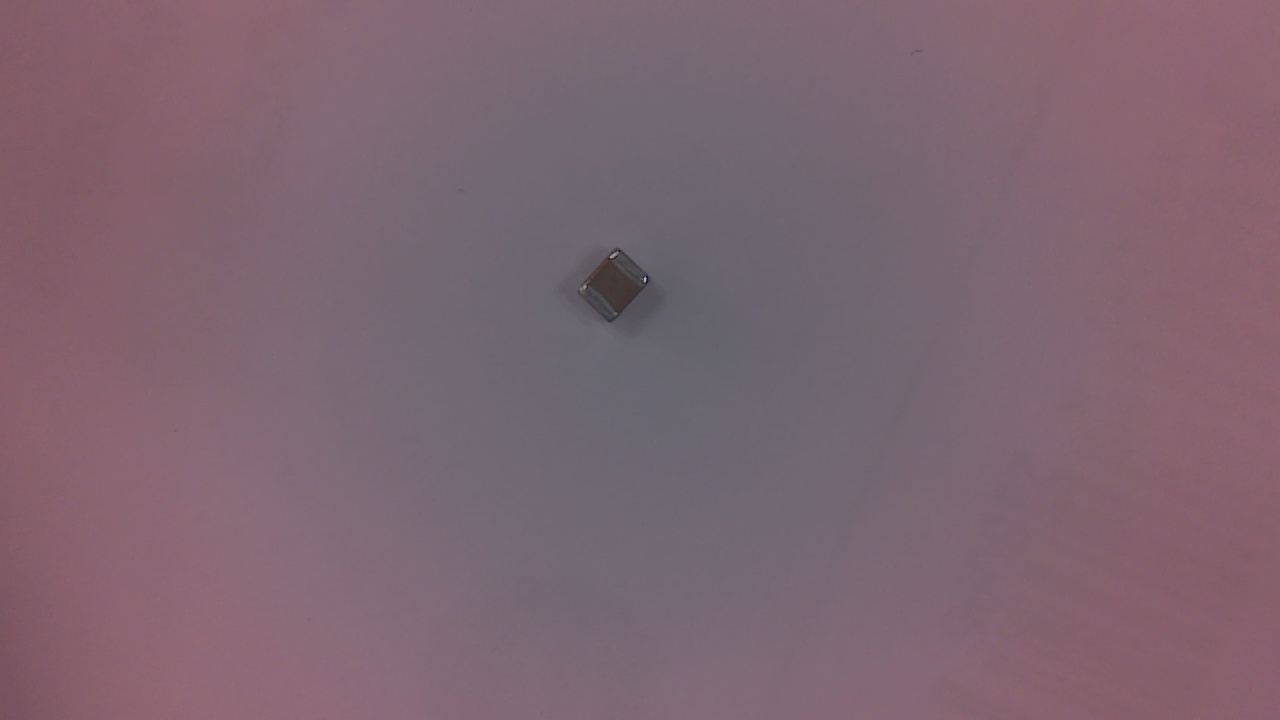Condensator: (582, 252, 656, 329)
